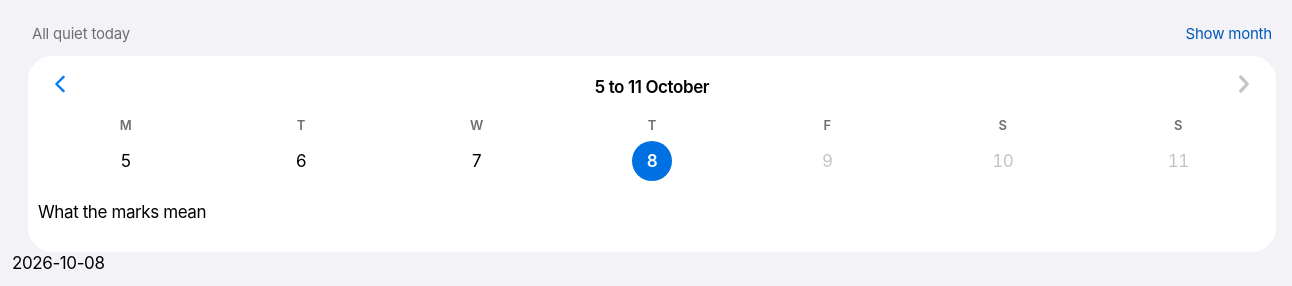
DatePicker › lastDay: the days after it can’t be chosen, and Next stops at its week
Expected: the button named "Next week" is disabled, [1222,62,1266,106]
Click the button named "Previous week".
click(60, 84)  # box [38,62,82,106]
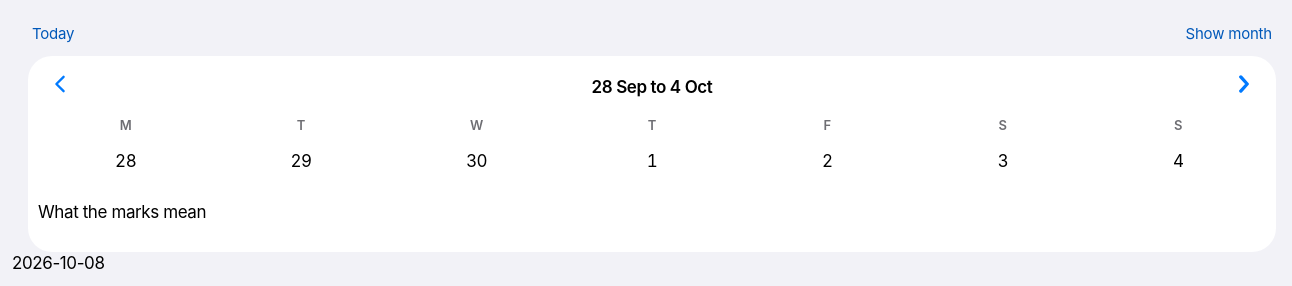
Expected: the button named "Next week" is enabled, [1222,62,1266,106]
